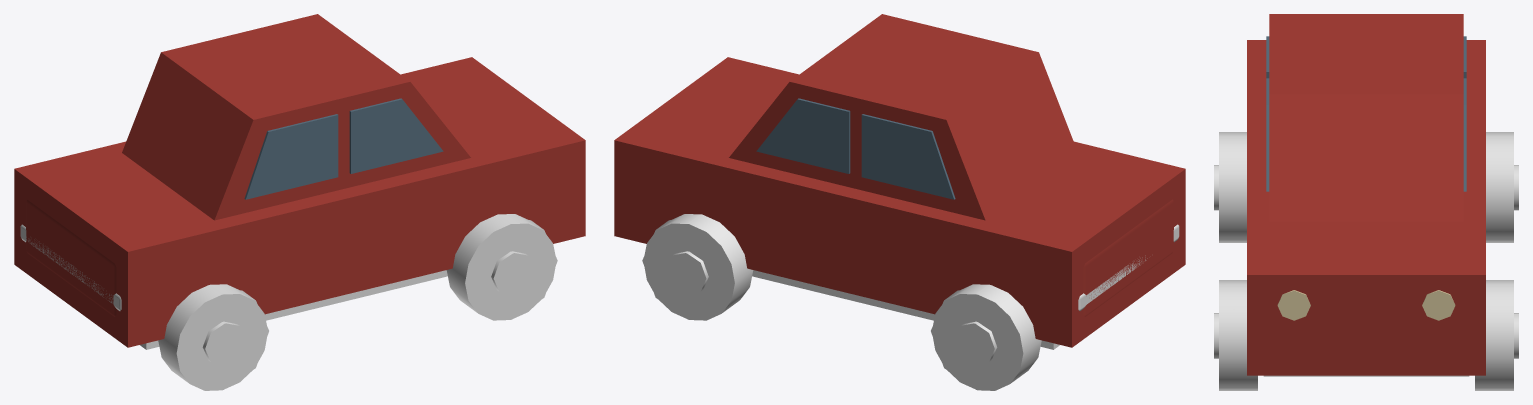
File: inspect_toy_car.glb
3 views of the same model, side by side, from view 1: azimuth 30°, elevation 25°; view 2: azimuth 150°, elevation 25°; view 3: azimuth 270°, elevation 25° (orthographic). The views are drawn at different scales.
Visible parts, largest first — view 1: inspect_toy_car_lod-0, inspect_toy_car-0, inspect_toy_car-1, inspect_toy_car_lod-2, inspect_toy_car-2, inspect_toy_car_lod-1; view 2: inspect_toy_car_lod-0, inspect_toy_car-0, inspect_toy_car-1, inspect_toy_car-2, inspect_toy_car_lod-1, inspect_toy_car_lod-2; view 3: inspect_toy_car_lod-0, inspect_toy_car-0, inspect_toy_car-1, inspect_toy_car_lod-1, inspect_toy_car_lod-2, inspect_toy_car-2.
Part boxes in pixels (bbox=[...]): inspect_toy_car_lod-0: bbox=[14, 14, 585, 347]; inspect_toy_car-0: bbox=[26, 14, 547, 318]; inspect_toy_car-1: bbox=[140, 214, 556, 390]; inspect_toy_car_lod-2: bbox=[206, 98, 533, 364]; inspect_toy_car-2: bbox=[20, 98, 531, 364]; inspect_toy_car_lod-1: bbox=[147, 214, 557, 389]; inspect_toy_car_lod-0: bbox=[614, 14, 1185, 347]; inspect_toy_car-0: bbox=[638, 14, 1173, 318]; inspect_toy_car-1: bbox=[643, 214, 1059, 390]; inspect_toy_car-2: bbox=[676, 98, 1179, 364]; inspect_toy_car_lod-1: bbox=[642, 214, 1052, 388]; inspect_toy_car_lod-2: bbox=[666, 98, 993, 364]; inspect_toy_car_lod-0: bbox=[1247, 14, 1485, 375]; inspect_toy_car-0: bbox=[1269, 14, 1463, 320]; inspect_toy_car-1: bbox=[1219, 132, 1513, 390]; inspect_toy_car_lod-1: bbox=[1219, 137, 1513, 388]; inspect_toy_car_lod-2: bbox=[1214, 37, 1518, 358]; inspect_toy_car-2: bbox=[1214, 36, 1518, 314].
Size of the model in its own units: 0.1005 by 0.05 by 0.0548.
